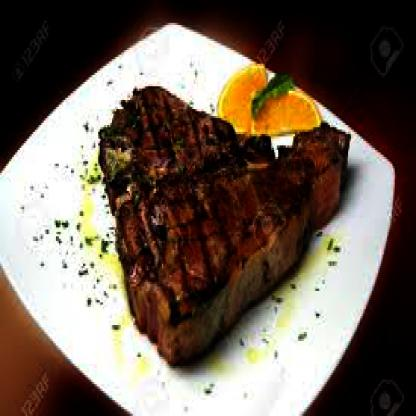Carne: (116, 124, 353, 366), (98, 81, 242, 195)
